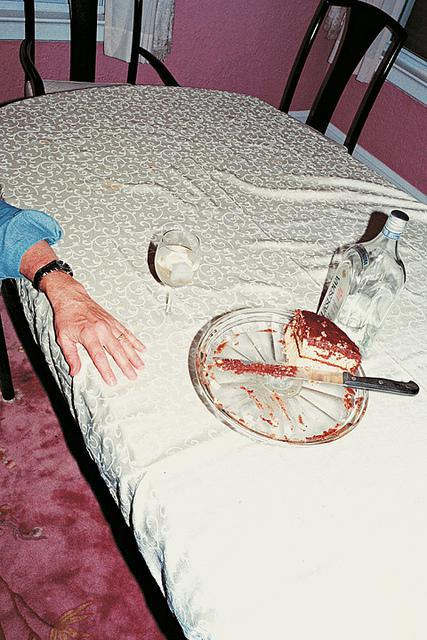hand: (20, 255, 151, 391)
